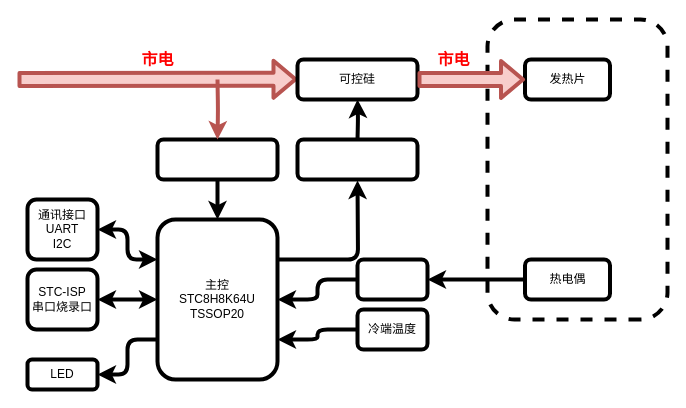
This 686x408 diagram has some shape labels left out. The box of each missing label's shape, as (x1, y1, x2, y2) in pixels:
ACDC 220AC to 5VDC: (155, 137, 279, 181)
加热平台: (485, 17, 669, 321)
过零光耦: (295, 137, 419, 181)
运放: (355, 257, 429, 301)
